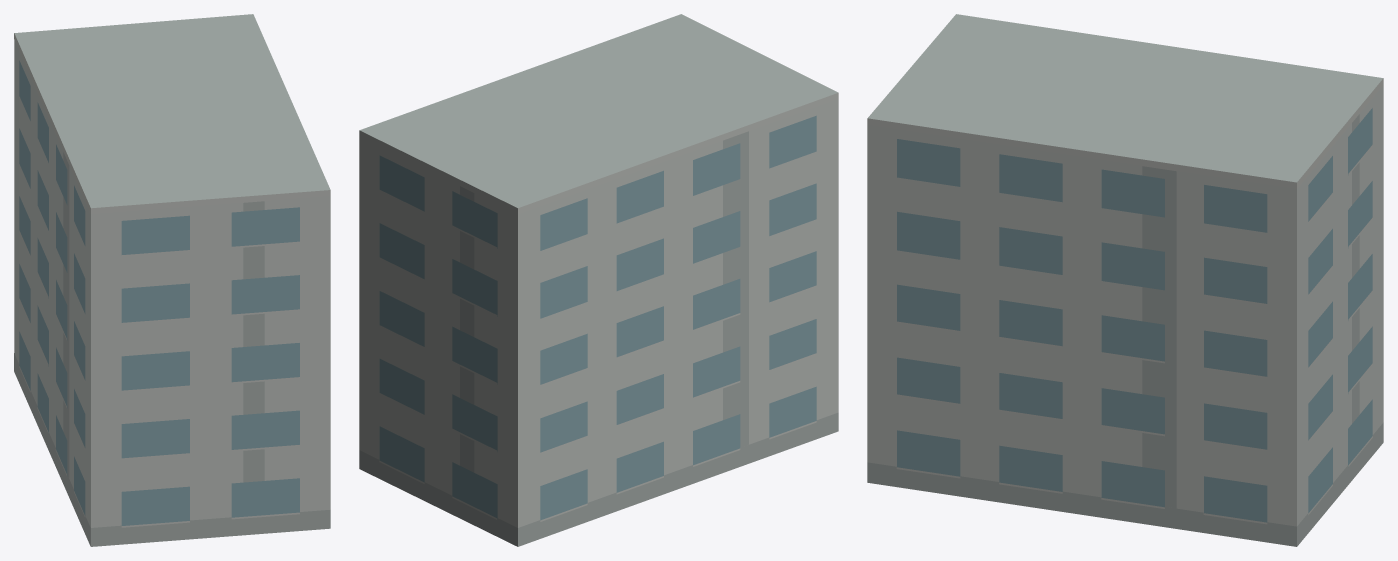
Rendered from survey-upis-33003384.glb.
3 views of the same model, side by side, from view 1: azimuth 30°, elevation 25°; view 2: azimuth 150°, elevation 25°; view 3: azimuth 270°, elevation 25° (orthographic). The views are drawn at different scales.
Parts seen in each view (by area): view 1: survey-upis-33003384.tmp; view 2: survey-upis-33003384.tmp; view 3: survey-upis-33003384.tmp.
Part boxes in pixels (x1=…): survey-upis-33003384.tmp: x1=14, y1=14, x2=330, y2=546; survey-upis-33003384.tmp: x1=359, y1=14, x2=838, y2=546; survey-upis-33003384.tmp: x1=867, y1=14, x2=1383, y2=546.
Bounding box in the file's own units: 13.1 × 13.2 × 16.95.
